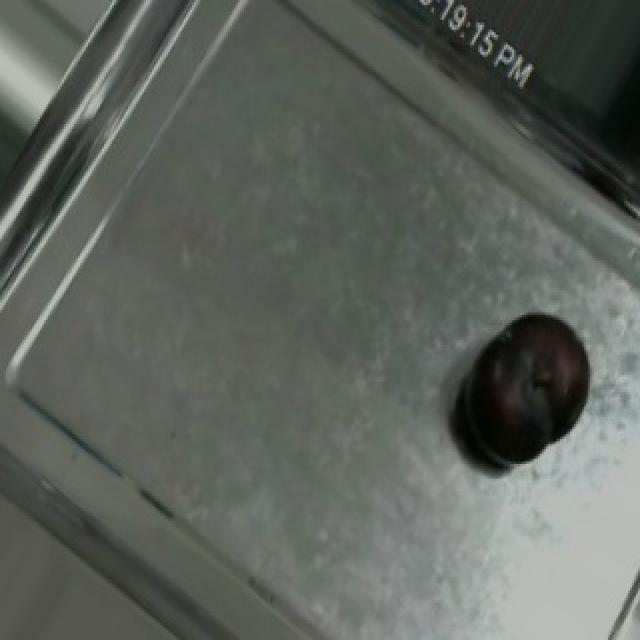Fruit: (442, 292, 612, 483)
